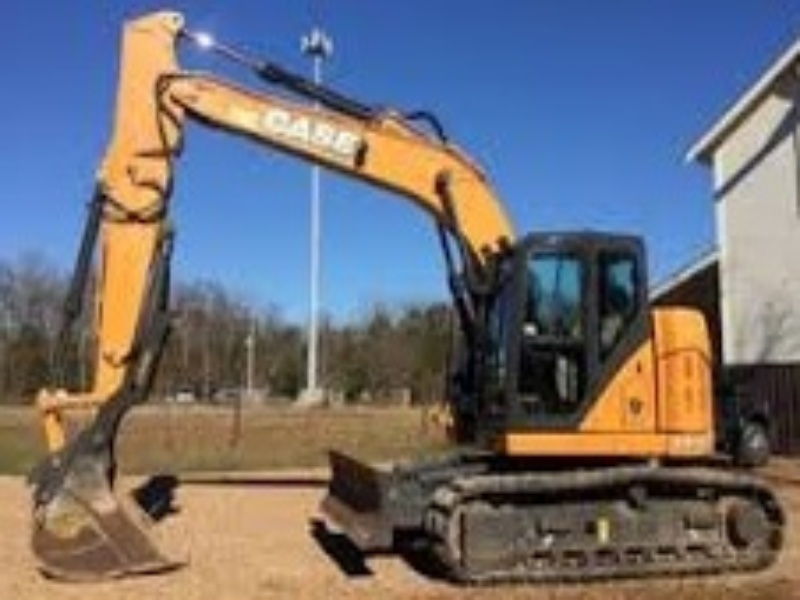wajueji: (221, 104, 794, 600)
